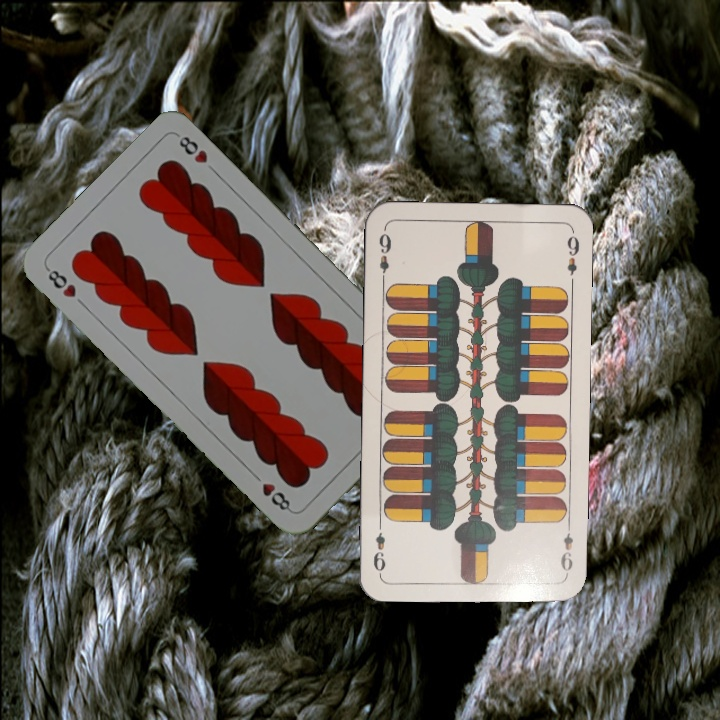E9: (557, 519, 576, 578), (375, 229, 394, 285)
H8: (42, 263, 79, 301)
